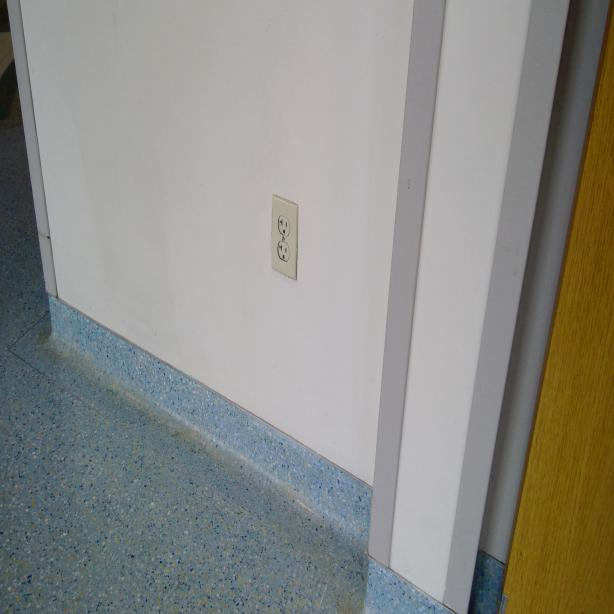typeb: (278, 215, 290, 236), (278, 240, 290, 261)
